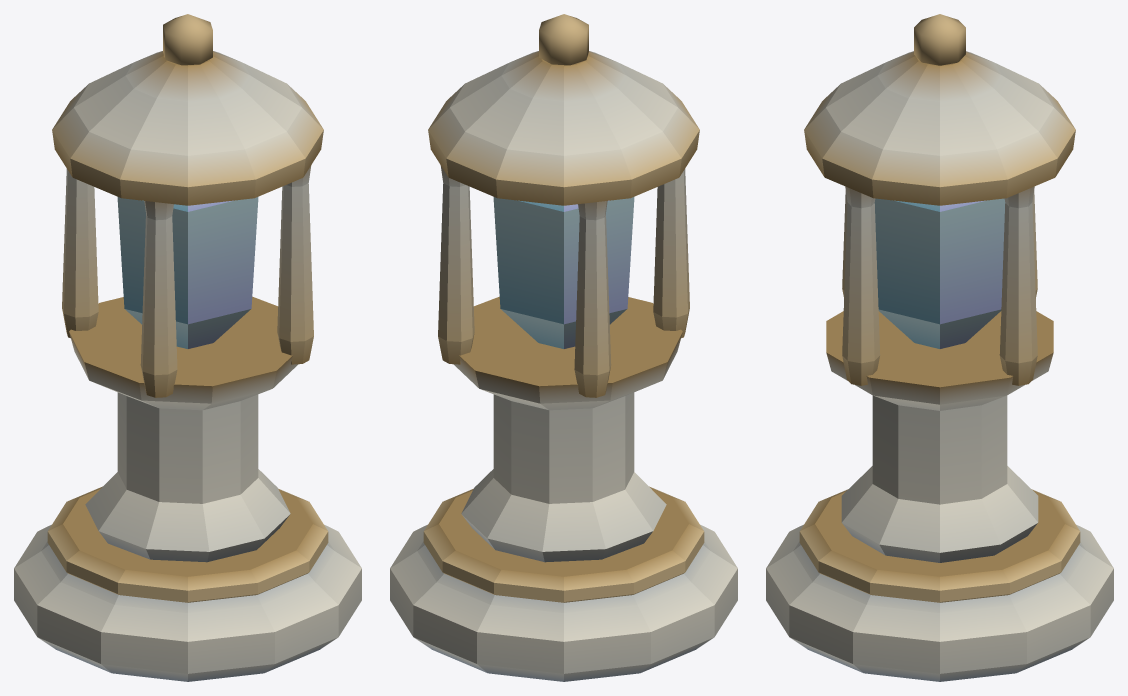
The model's file is Sky_Astral_Crystal_Lantern.glb.
3 renders of one model, left to right at view 1: azimuth 30°, elevation 25°; view 2: azimuth 150°, elevation 25°; view 3: azimuth 270°, elevation 25°, orthographic.
Parts seen in each view (by area): view 1: Sky_Astral_Crystal_Lantern; view 2: Sky_Astral_Crystal_Lantern; view 3: Sky_Astral_Crystal_Lantern.
Part boxes in pixels (box(x1,y1,x2,y2)): Sky_Astral_Crystal_Lantern: box(14, 14, 361, 681); Sky_Astral_Crystal_Lantern: box(390, 14, 737, 681); Sky_Astral_Crystal_Lantern: box(766, 14, 1113, 681).
Bounding box in the file's own units: 0.64 × 1.23 × 0.64.
